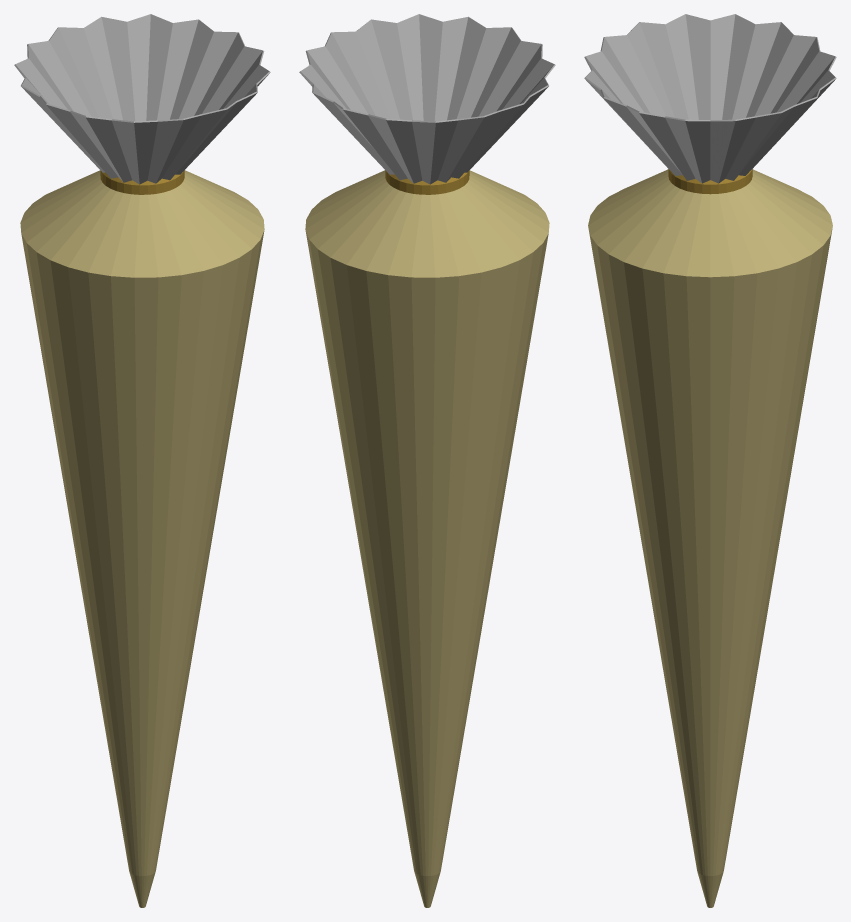
File: piping bag cream cheese.fbx
3 renders of one model, left to right at view 1: azimuth 30°, elevation 25°; view 2: azimuth 150°, elevation 25°; view 3: azimuth 270°, elevation 25°, orthographic.
Visible parts, largest first — view 1: Cylinder; view 2: Cylinder; view 3: Cylinder.
Boxes of the visible parts, left/top/right/bottom form: Cylinder: left=14, top=14, right=270, bottom=907; Cylinder: left=299, top=14, right=555, bottom=907; Cylinder: left=584, top=14, right=836, bottom=907.
Size of the model in its own units: 114 by 417 by 114.
